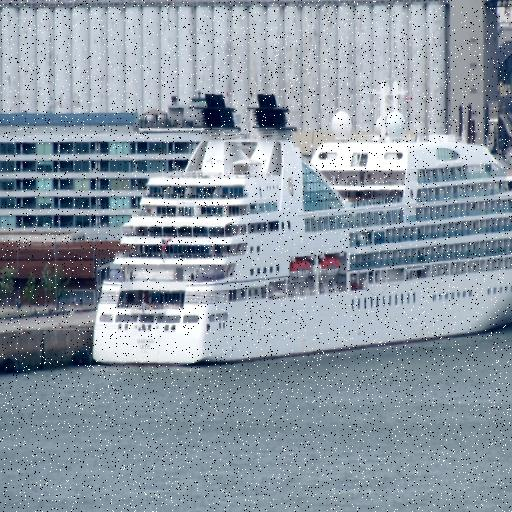cruises: (88, 77, 512, 376)
